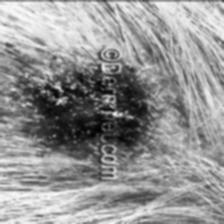Potentially Malignant Skin Tumors: (24, 66, 100, 148)
